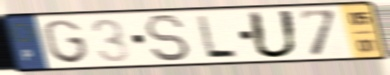3: (90, 17, 130, 63)
7: (300, 7, 338, 59)
G: (41, 18, 92, 66)
L: (194, 14, 240, 59)
S: (141, 13, 193, 64)
U: (244, 9, 302, 60)
